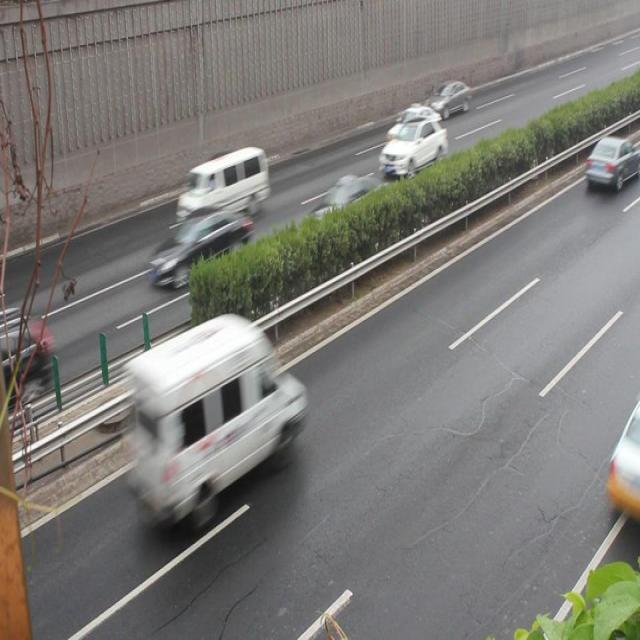car: (128, 313, 304, 518), (148, 204, 253, 291), (300, 172, 391, 252), (378, 117, 446, 179), (0, 310, 50, 392), (606, 404, 640, 520), (582, 134, 640, 189), (385, 104, 440, 154), (423, 81, 469, 117)
truck: (176, 145, 268, 231)
